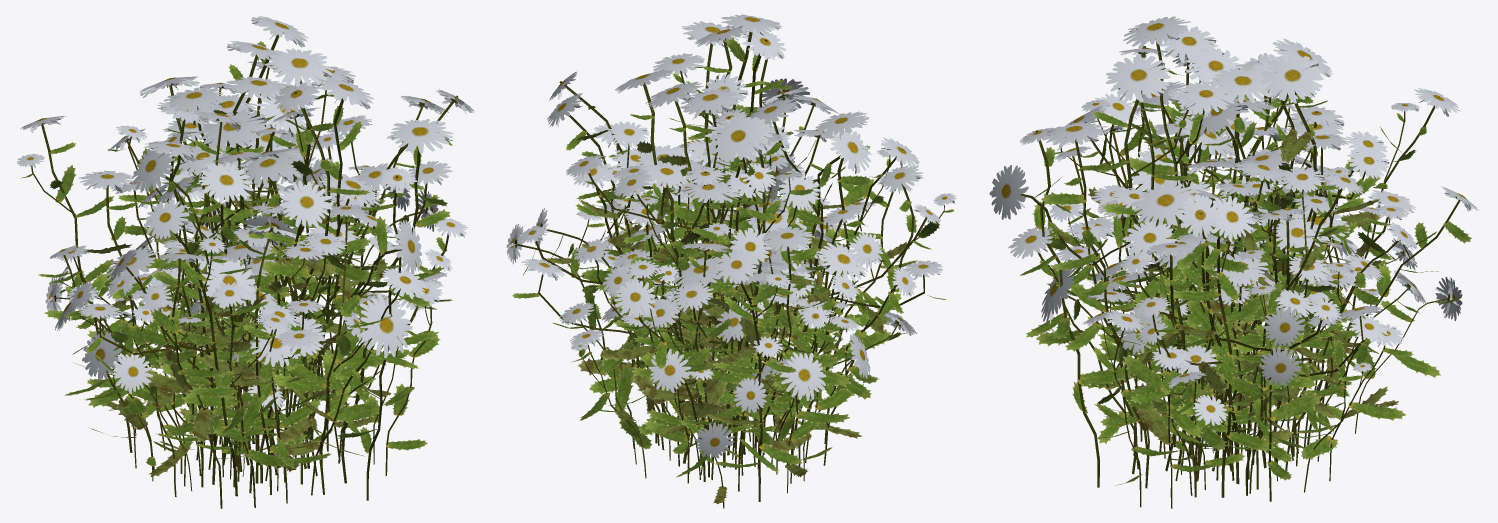
Rendered from runtime-darwiniothamnus.glb.
3 renders of one model, left to right at view 1: azimuth 30°, elevation 25°; view 2: azimuth 150°, elevation 25°; view 3: azimuth 270°, elevation 25°, orthographic. The views are drawn at different scales.
Visible parts, largest first — view 1: darwiniothamnus-big-2, darwiniothamnus-big-3, darwiniothamnus-big-1, darwiniothamnus-small-1, darwiniothamnus-small-3, darwiniothamnus-small-2, darwiniothamnus-single-1, darwiniothamnus-single-2, darwiniothamnus-single-3; view 2: darwiniothamnus-big-1, darwiniothamnus-big-2, darwiniothamnus-big-3, darwiniothamnus-small-1, darwiniothamnus-small-2, darwiniothamnus-small-3, darwiniothamnus-single-2, darwiniothamnus-single-1, darwiniothamnus-single-3; view 3: darwiniothamnus-big-2, darwiniothamnus-big-1, darwiniothamnus-big-3, darwiniothamnus-small-2, darwiniothamnus-small-1, darwiniothamnus-small-3, darwiniothamnus-single-2, darwiniothamnus-single-3, darwiniothamnus-single-1.
Boxes of the visible parts, x1,y1,x2,y2 form: darwiniothamnus-big-2: [108, 77, 453, 507]; darwiniothamnus-big-3: [38, 76, 467, 508]; darwiniothamnus-big-1: [17, 16, 474, 495]; darwiniothamnus-small-1: [78, 48, 355, 483]; darwiniothamnus-small-3: [94, 41, 410, 496]; darwiniothamnus-small-2: [106, 80, 404, 487]; darwiniothamnus-single-1: [137, 109, 282, 475]; darwiniothamnus-single-2: [139, 94, 396, 465]; darwiniothamnus-single-3: [146, 124, 349, 477]; darwiniothamnus-big-1: [506, 70, 946, 508]; darwiniothamnus-big-2: [512, 21, 940, 481]; darwiniothamnus-big-3: [547, 88, 956, 491]; darwiniothamnus-small-1: [567, 14, 838, 473]; darwiniothamnus-small-2: [602, 30, 871, 477]; darwiniothamnus-small-3: [534, 81, 919, 479]; darwiniothamnus-single-2: [639, 108, 800, 459]; darwiniothamnus-single-1: [613, 119, 805, 463]; darwiniothamnus-single-3: [639, 159, 816, 459]; darwiniothamnus-big-2: [989, 46, 1480, 508]; darwiniothamnus-big-1: [1008, 26, 1462, 501]; darwiniothamnus-big-3: [1041, 67, 1426, 497]; darwiniothamnus-small-2: [1092, 46, 1380, 489]; darwiniothamnus-small-1: [1065, 16, 1415, 493]; darwiniothamnus-small-3: [1081, 54, 1387, 489]; darwiniothamnus-single-2: [1115, 108, 1349, 464]; darwiniothamnus-single-3: [1159, 148, 1309, 452]; darwiniothamnus-single-1: [1141, 100, 1331, 451].
Size of the model in its own units: 0.7076 by 0.7188 by 0.7298.
1 material, 1 textured.
